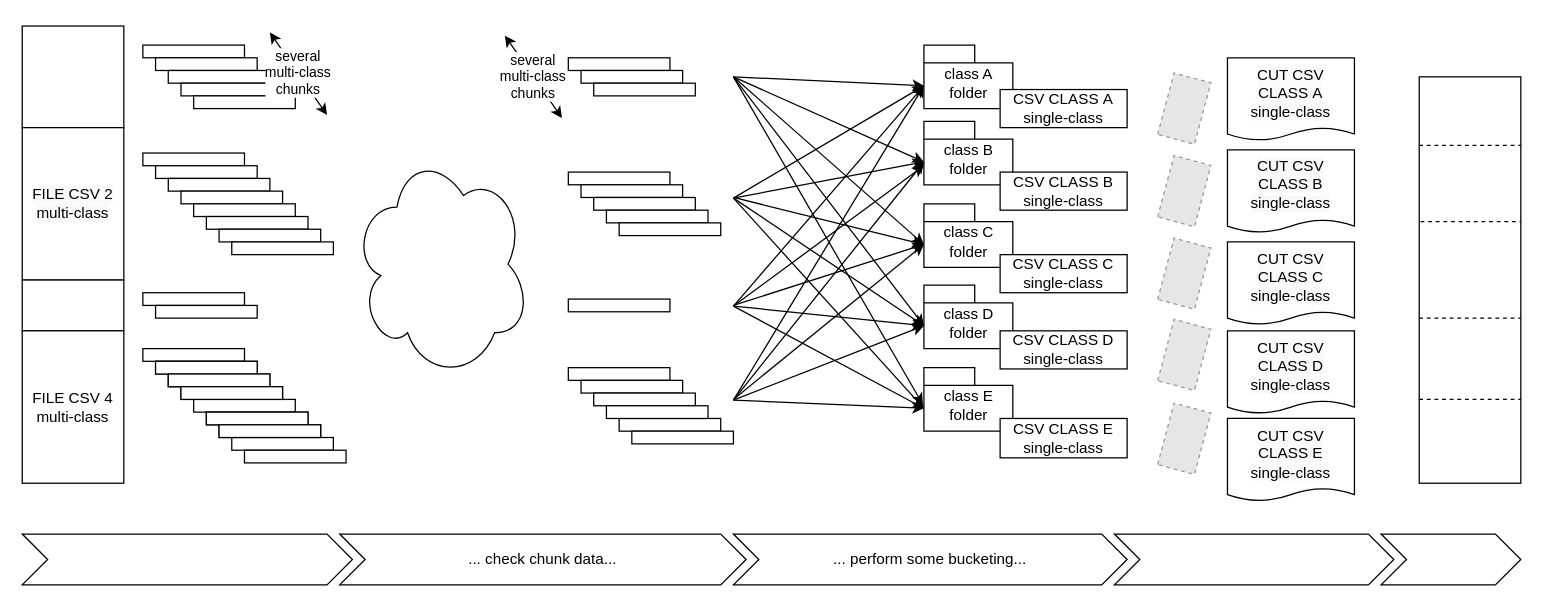
Some shapes in this 1544 by 607 pixel diagram are drawn without their labels. Grey dashed boxes stand in for pictures. Here are the shapes that lost their labels. From the top down, the box of each, then its label:
(21, 25, 124, 128): FILE CSV 1 multi-class
(351, 149, 530, 378): for every chunk tidy up chunk data (one loaded at a time)
(1418, 76, 1521, 483): CSV JUMBO FILE multi-class balanced
(21, 279, 124, 331): FILE CSV 3 multi-class
(21, 533, 352, 585): for every file and for every chunk...
(1113, 533, 1394, 585): ...intra-class fair (random) cut...
(1380, 533, 1521, 585): ... append
